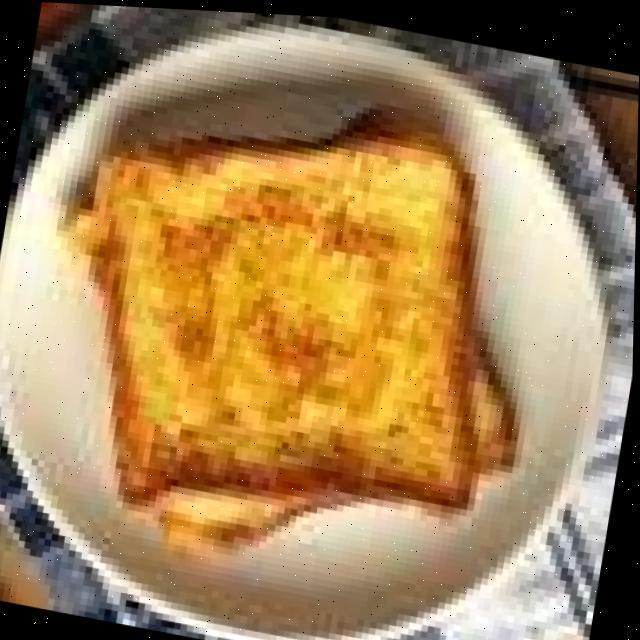Bread: (76, 130, 511, 535)
